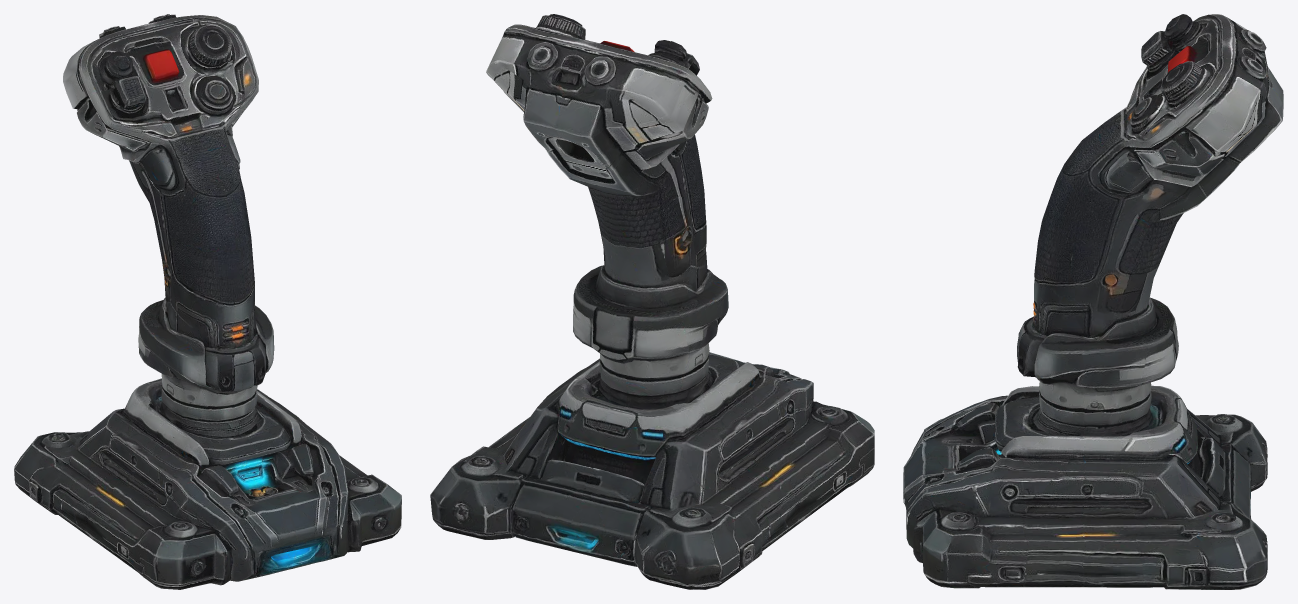
File: joystick-quantum.glb
3 views of the same model, side by side, from view 1: azimuth 30°, elevation 25°; view 2: azimuth 150°, elevation 25°; view 3: azimuth 270°, elevation 25° (orthographic). The views are drawn at different scales.
Parts seen in each view (by area): view 1: mesh_node; view 2: mesh_node; view 3: mesh_node.
Boxes of the visible parts, <box> form: mesh_node: <box>14,14,401,589</box>; mesh_node: <box>430,14,874,589</box>; mesh_node: <box>903,14,1283,589</box>.
Size of the model in its own units: 1.23 by 2 by 1.43.
1 material, 1 textured.
